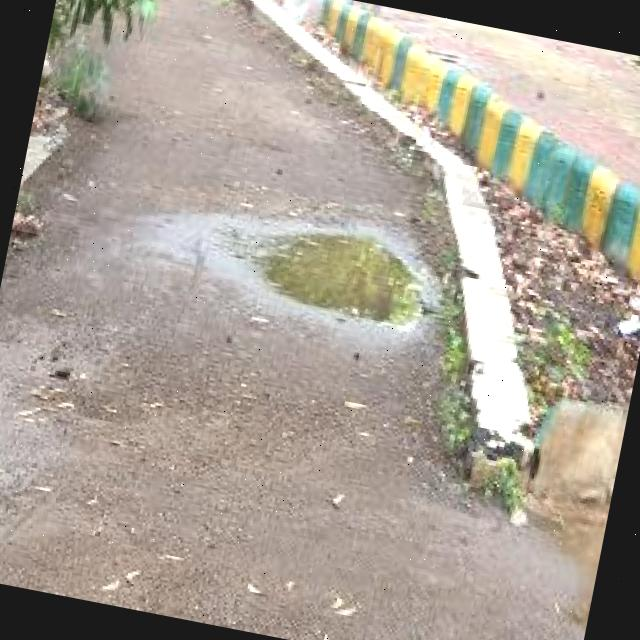waterlogging: (220, 208, 444, 350)
